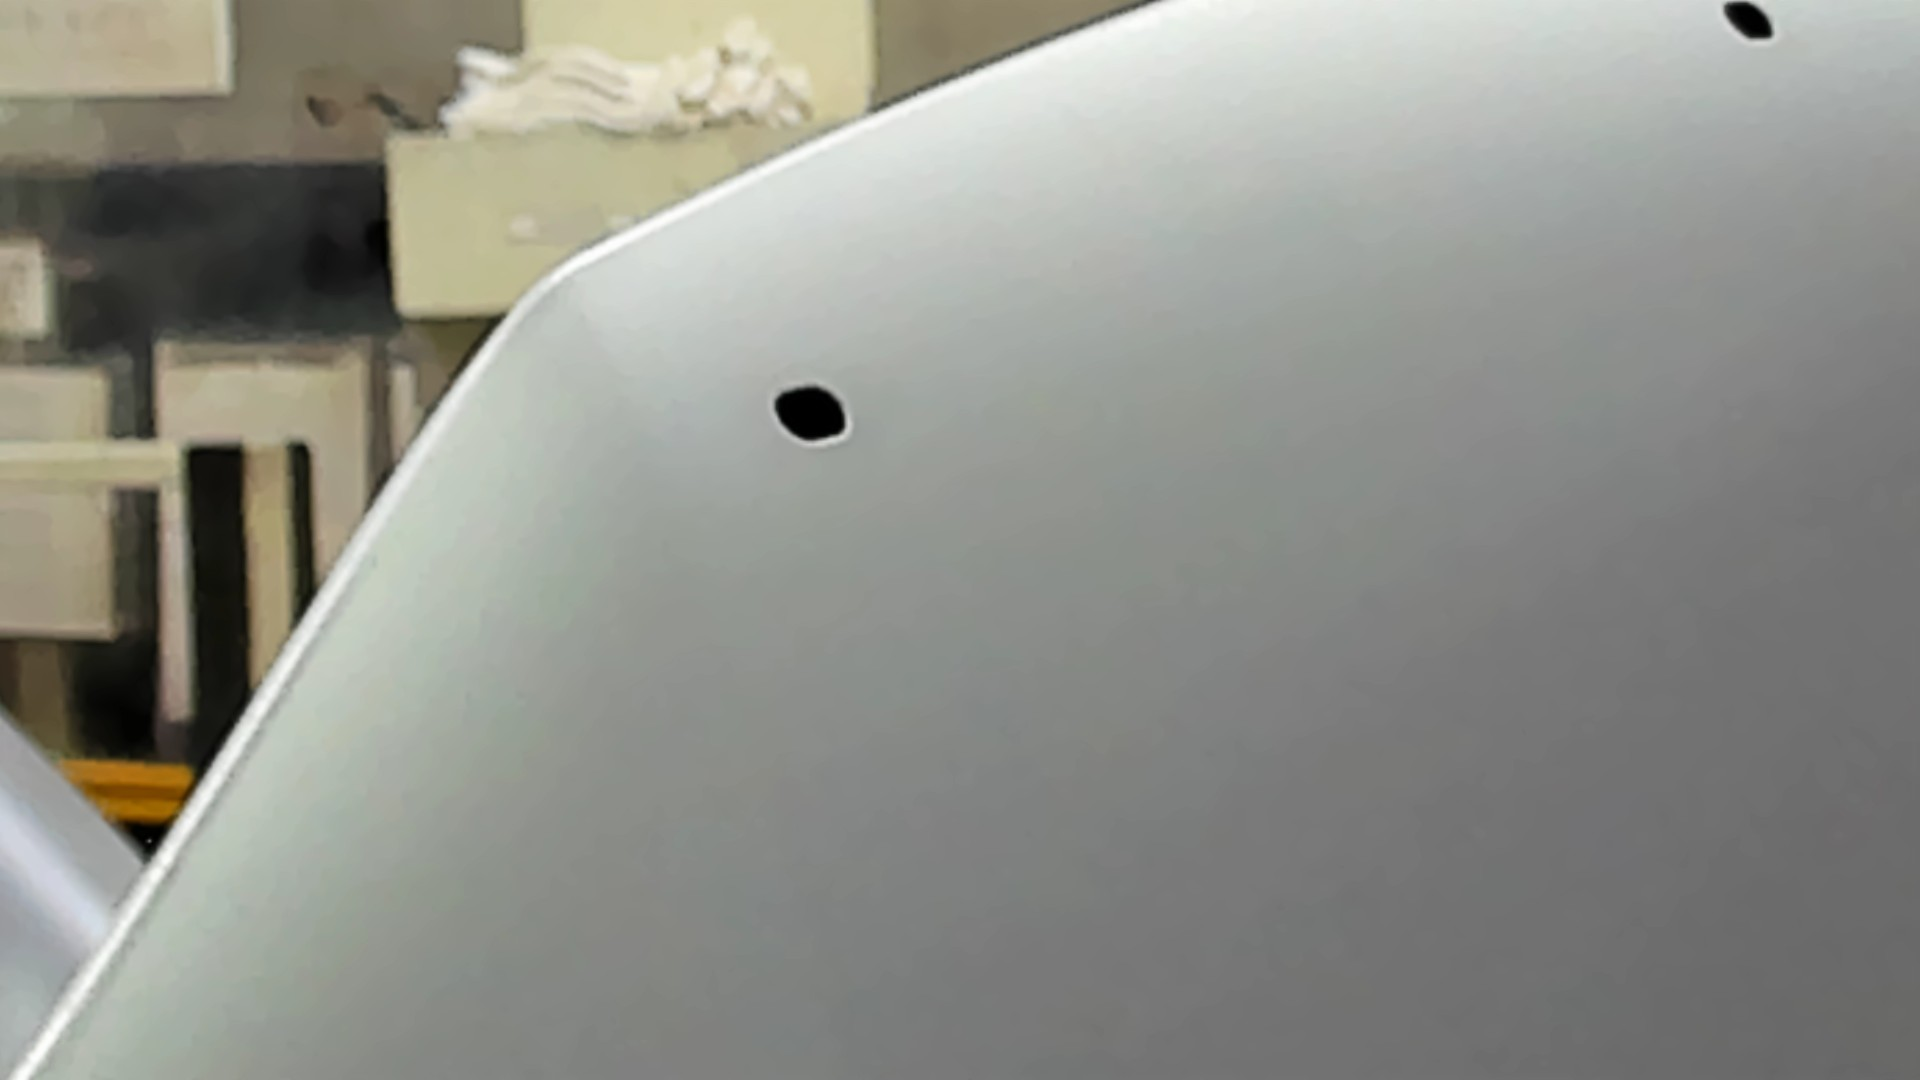amorfo: (761, 377, 860, 447), (1716, 1, 1778, 50)
